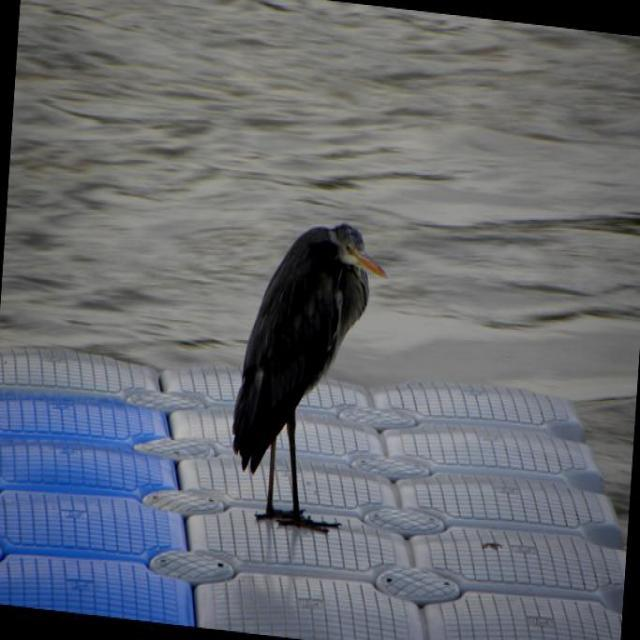flood: (0, 0, 639, 416)
